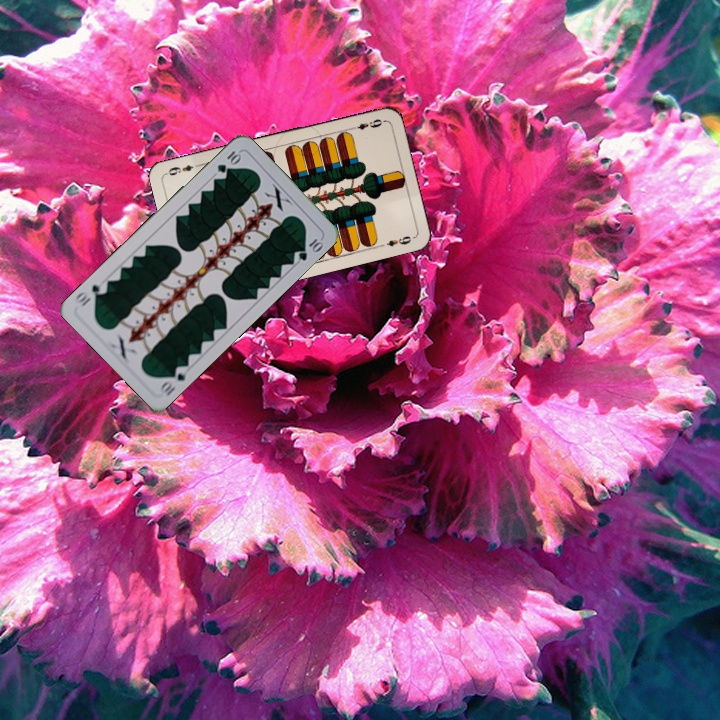E9: (346, 115, 386, 132)
G10: (156, 361, 192, 399), (213, 147, 244, 175)
